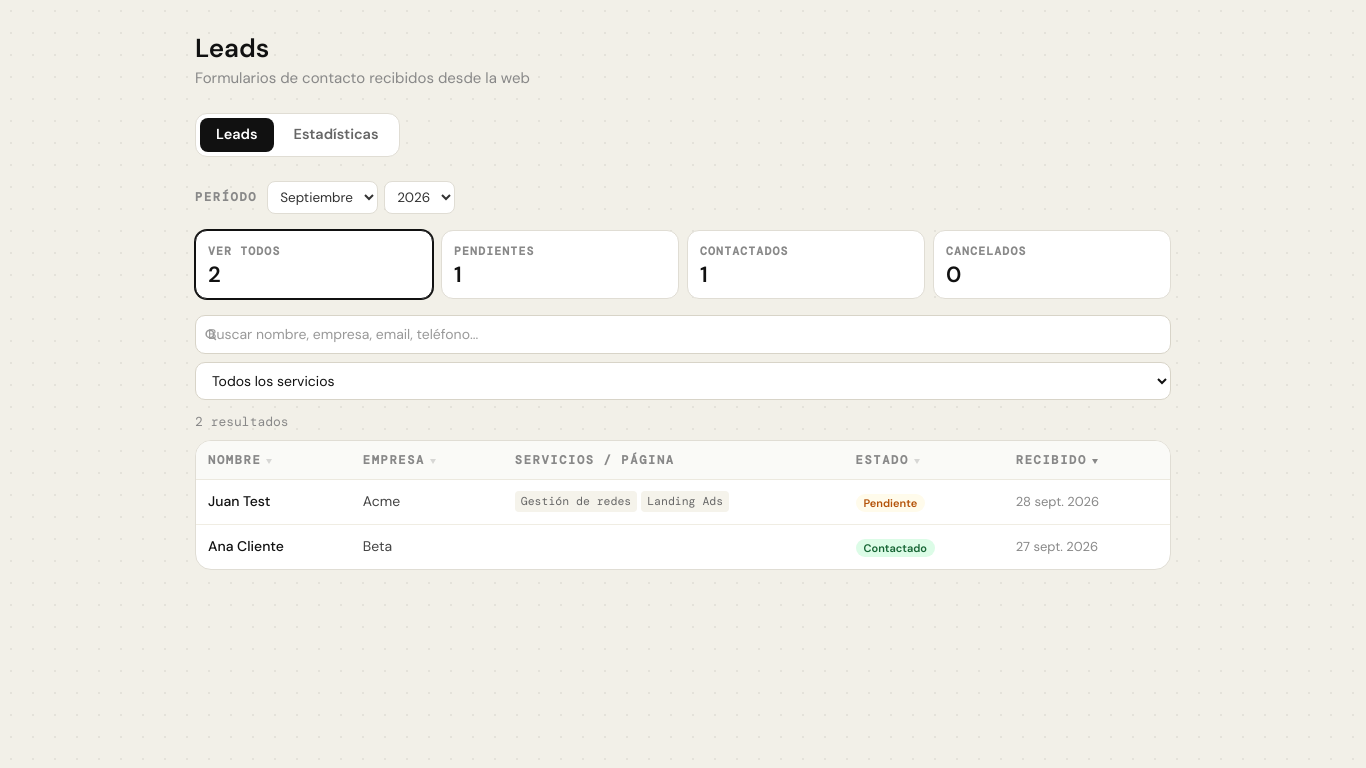
LeadsPage › switches to the Estadísticas tab and hides the lead list
The image size is (1366, 768).
Check: the text "Juan Test" is shown, box [196,479,351,524]
Click the button "Estadísticas". click: (336, 135)
box: [278,118,394,152]
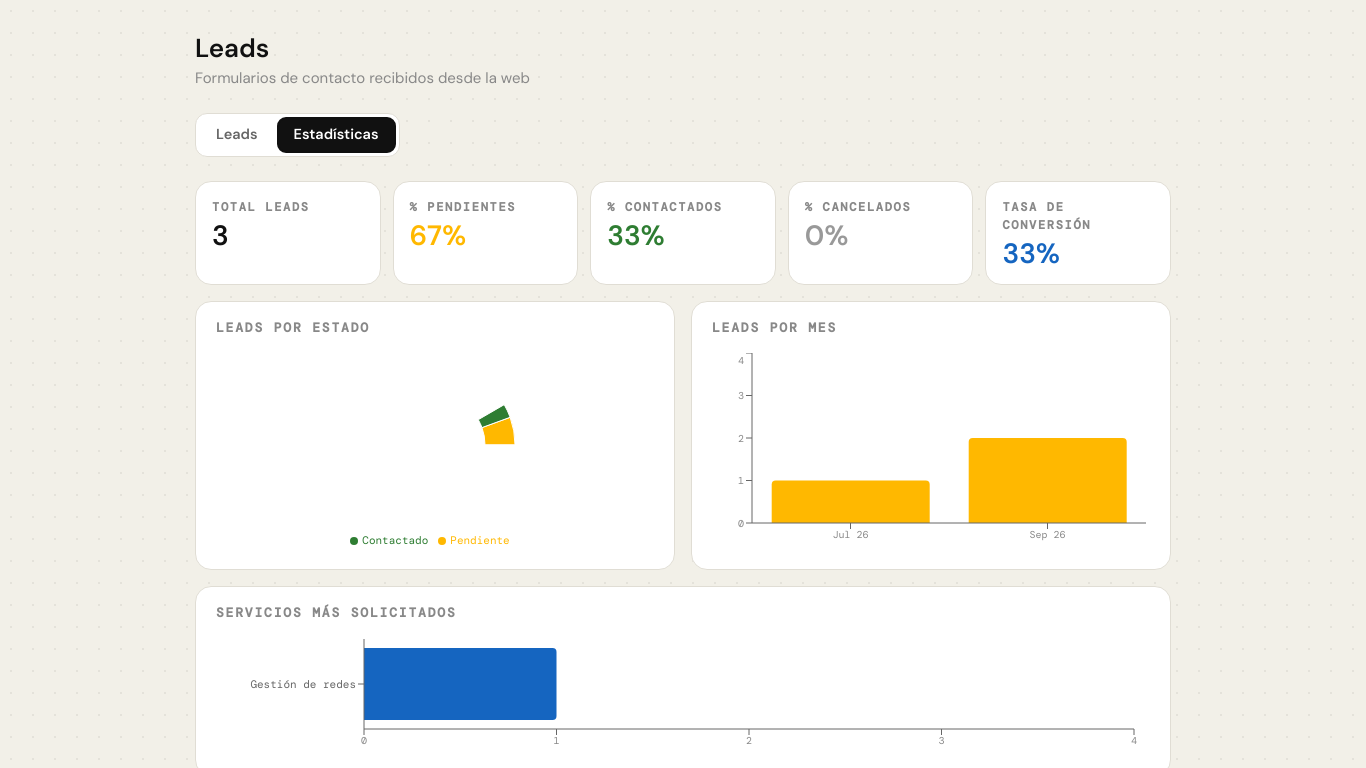
Check: the text "Juan Test" is gone
Check: the text "Total leads" is shown, box [212,199,310,215]
